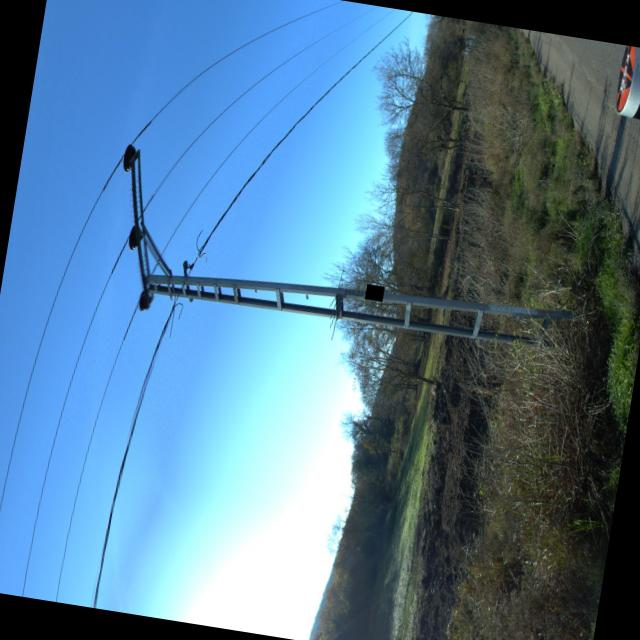Utility Pole Information Plate: (365, 283, 385, 301)
